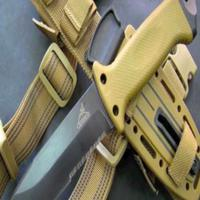knife: (5, 4, 182, 200)
